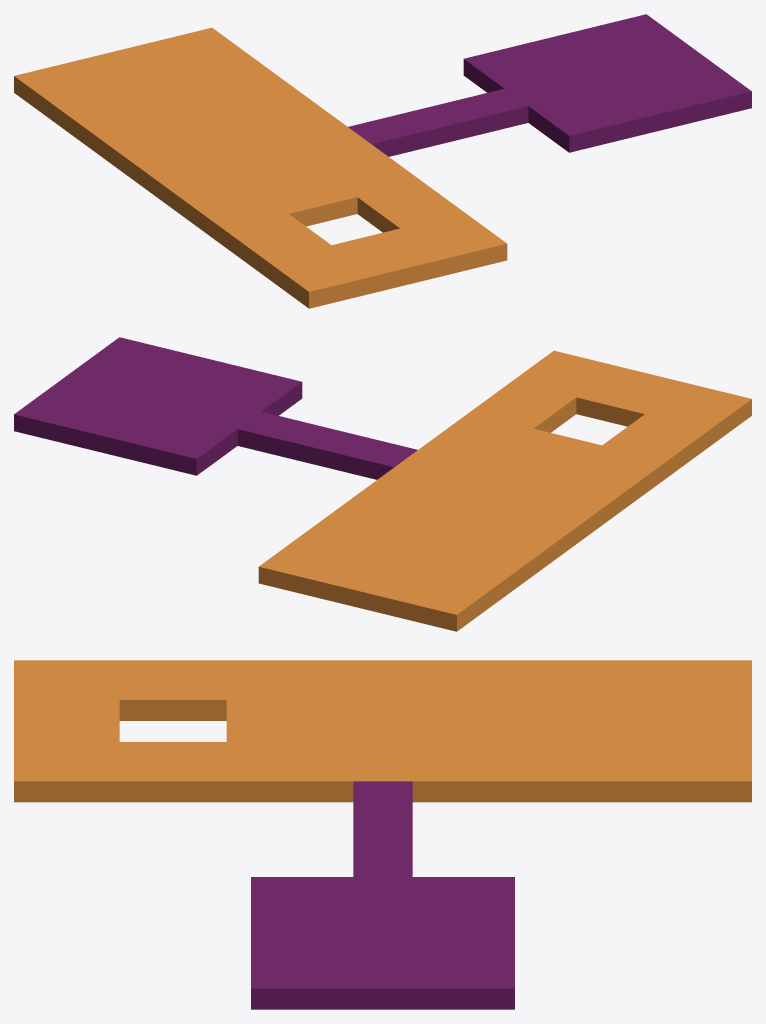
File: col_IntroStageFloor.fbx
3 renders of one model, top to bottom at view 1: azimuth 30°, elevation 25°; view 2: azimuth 150°, elevation 25°; view 3: azimuth 270°, elevation 25°, orthographic. The views are drawn at different scales.
Visible parts, largest first — view 1: col_IntroStageFloor; view 2: col_IntroStageFloor; view 3: col_IntroStageFloor.
Boxes of the visible parts, left/top/right/bottom form: col_IntroStageFloor: left=14, top=14, right=751, bottom=308; col_IntroStageFloor: left=14, top=337, right=751, bottom=631; col_IntroStageFloor: left=14, top=660, right=751, bottom=1009.
Bounding box in the file's own units: 3428 × 102 × 3259.
